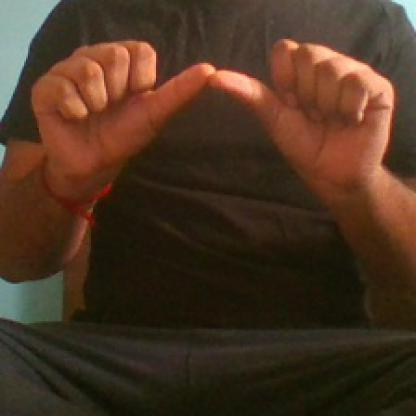A: (24, 29, 396, 188)
